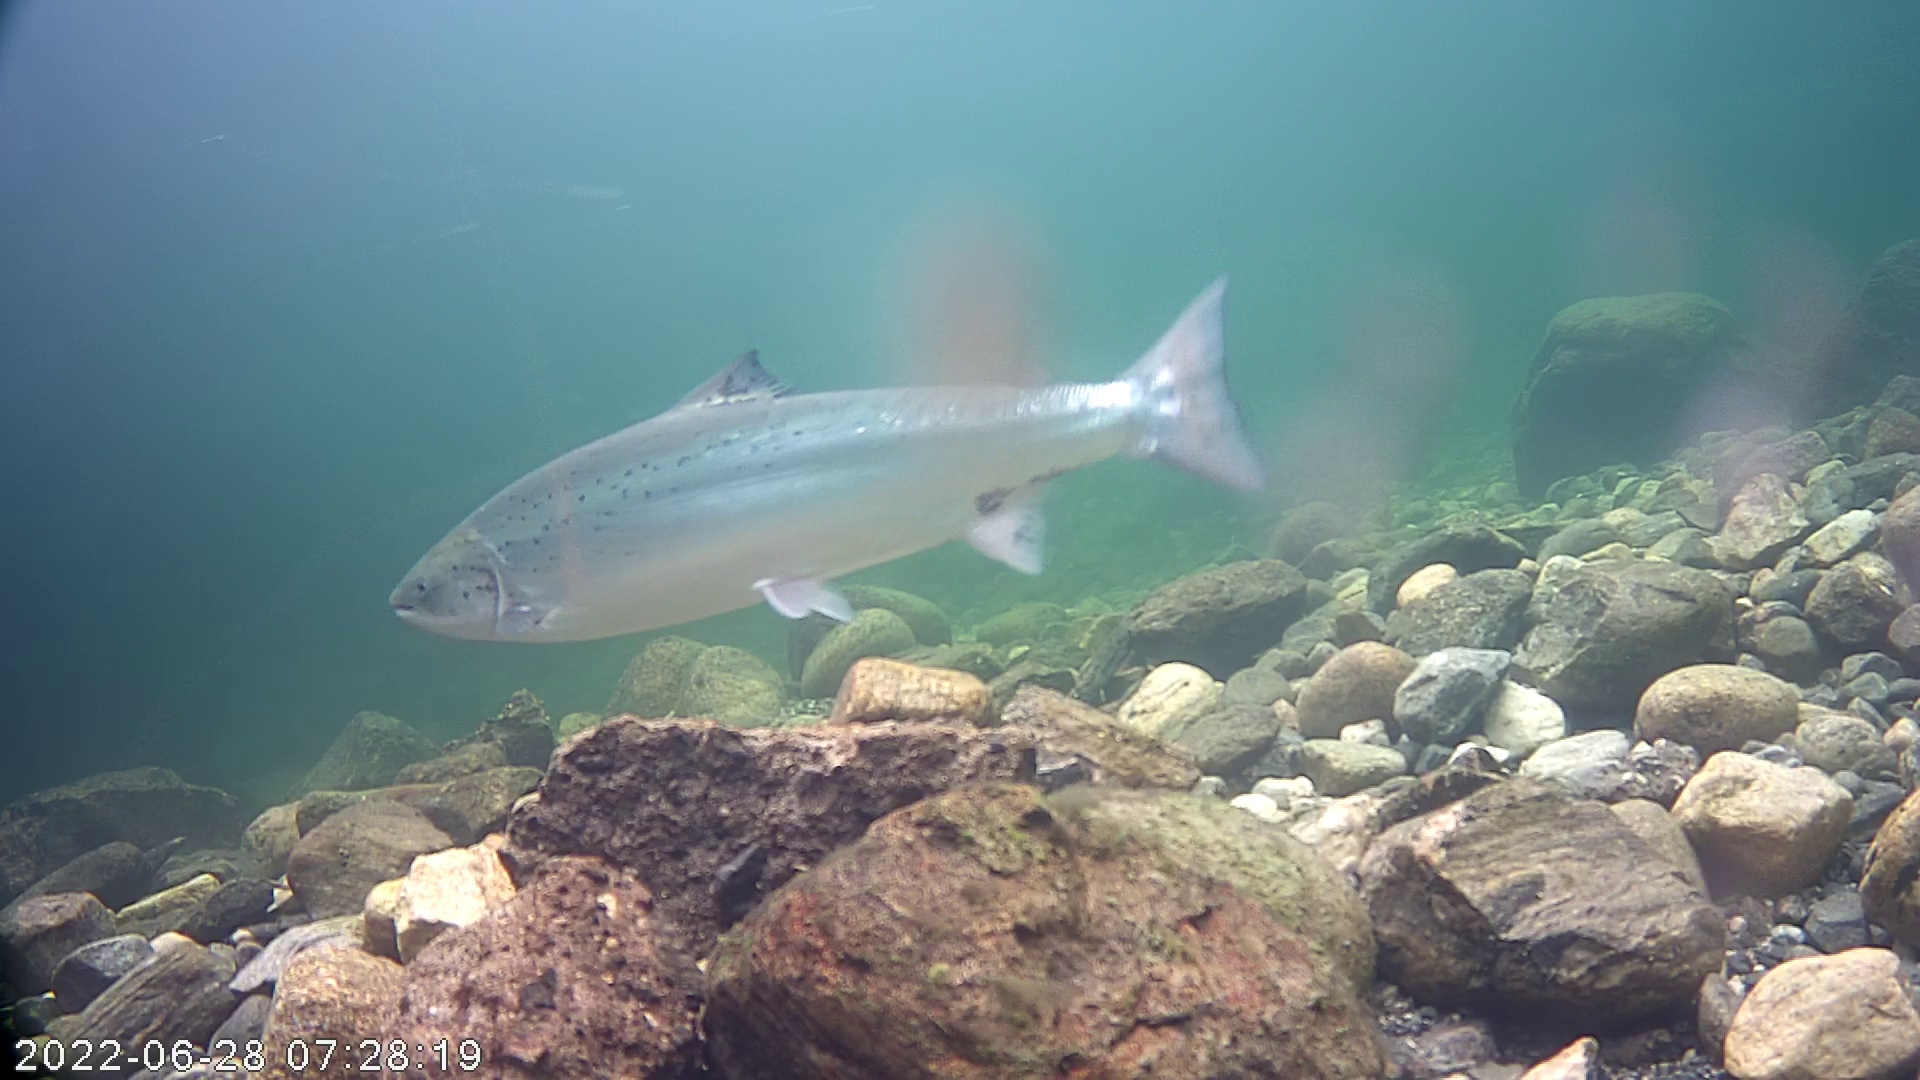salmon: (382, 222, 1288, 684)
